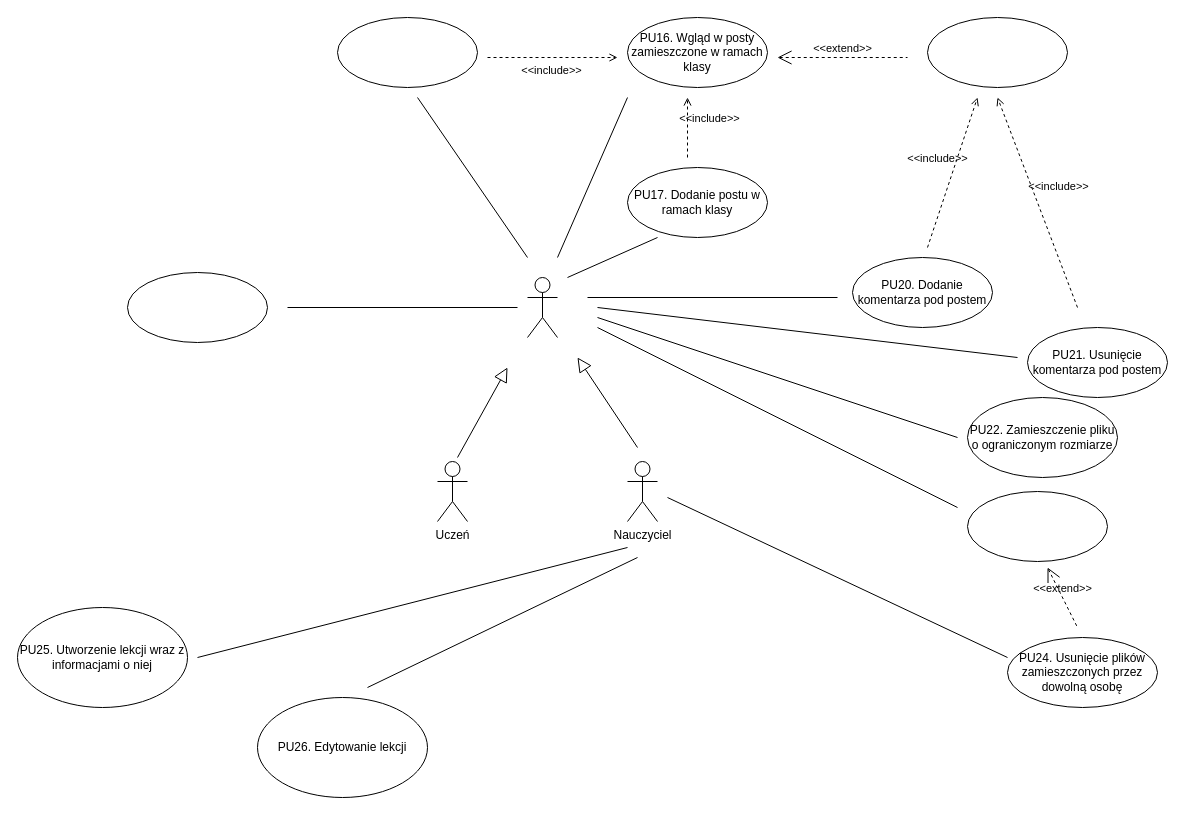
Some shapes in this 1185 by 815 pixel diagram are drawn without their labels. The centre of each missing label's shape, as x and y in pixels:
"PU18. Usunięcie postu" belongs at (x=407, y=52).
"PU19. Wgląd w komentarze" belongs at (x=997, y=52).
"PU23. Usunięcie zamieszczonych przez siebie plików" belongs at (x=1037, y=526).
"PU27, Wgląd w historie lekcji" belongs at (x=197, y=307).
"Użytkownik należący do danej klasy" belongs at (x=542, y=307).
